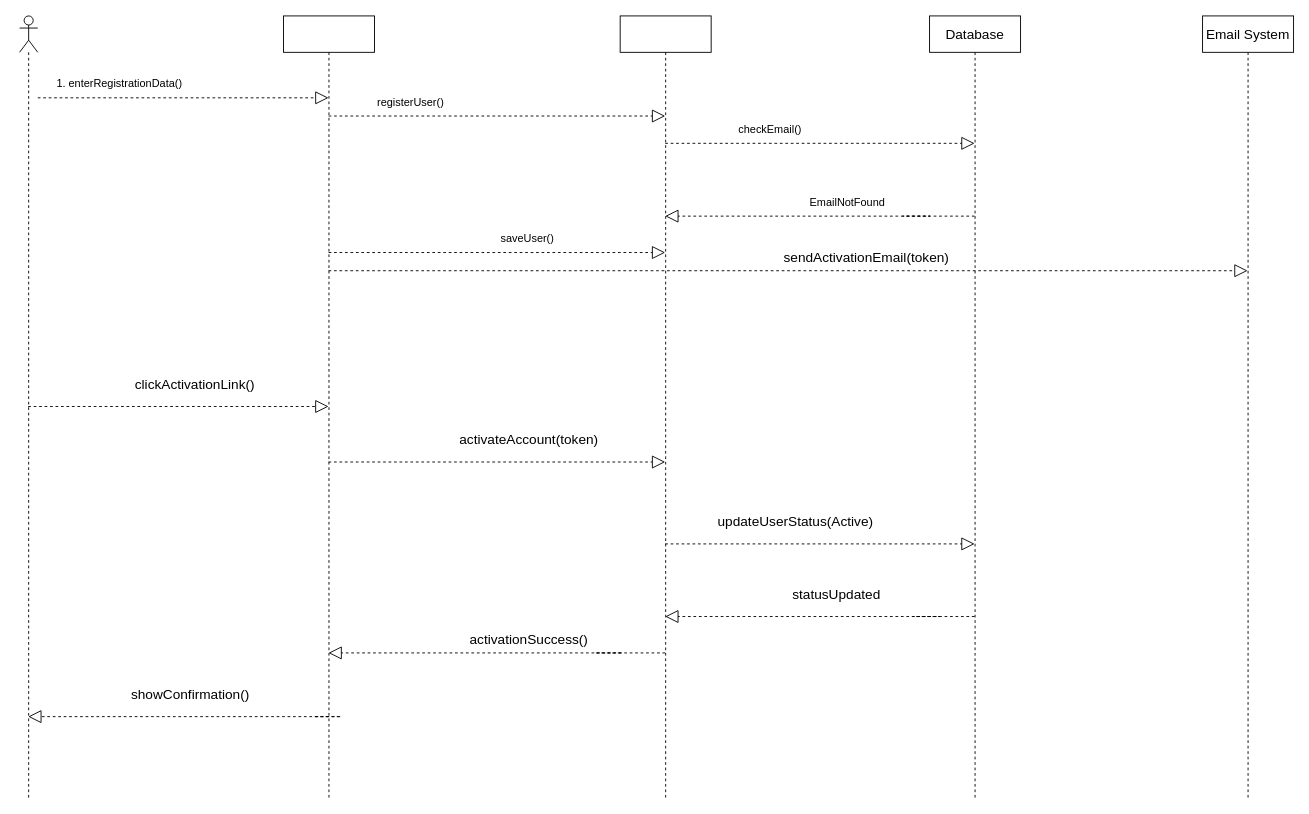
Image size: 1309x814. Some labels were removed from this diagram. Here are the shapes that lost their labels. From the top down, the box of each, then its label:
(283, 15, 374, 799): Web UI
(619, 15, 711, 799): Auth Service
